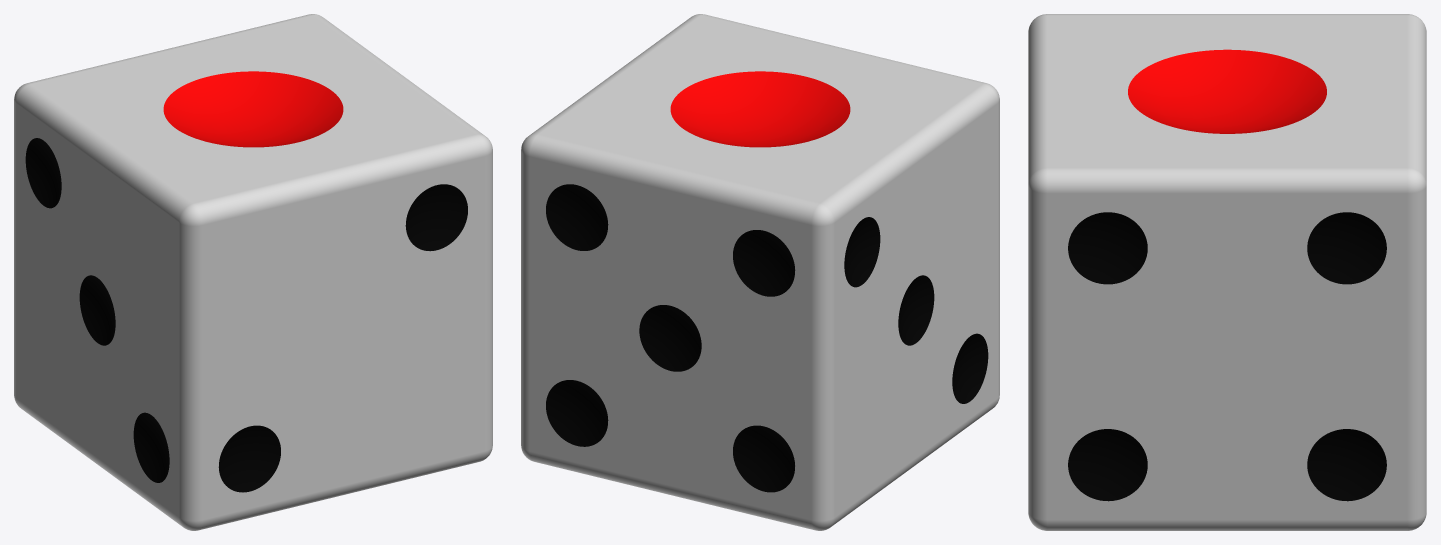
File: Dice.dae
3 renders of one model, left to right at view 1: azimuth 30°, elevation 25°; view 2: azimuth 150°, elevation 25°; view 3: azimuth 270°, elevation 25°, orthographic. The views are drawn at different scales.
Parts seen in each view (by area): view 1: ID2; view 2: ID2; view 3: ID2.
Part boxes in pixels (<box>): ID2: <box>14,14,492,530</box>; ID2: <box>521,14,999,530</box>; ID2: <box>1028,14,1426,530</box>.
Bounding box in the file's own units: 0.5 × 0.5 × 0.5.
